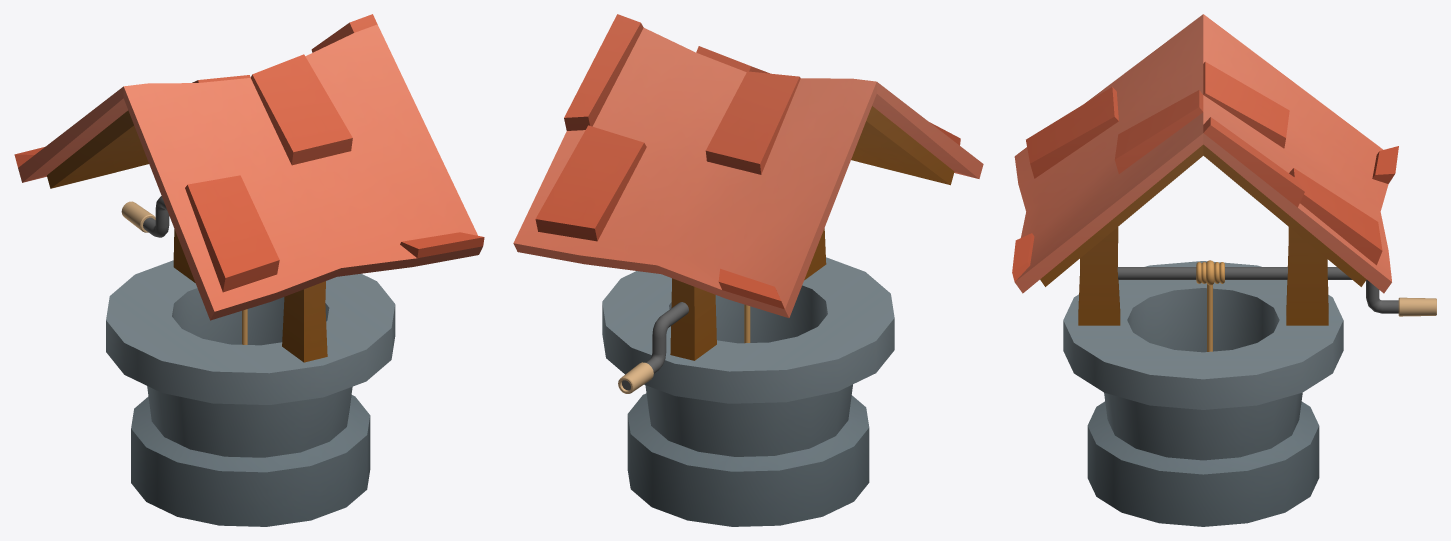
The model's file is Well.fbx.
3 renders of one model, left to right at view 1: azimuth 30°, elevation 25°; view 2: azimuth 150°, elevation 25°; view 3: azimuth 270°, elevation 25°, orthographic. The views are drawn at different scales.
Parts seen in each view (by area): view 1: Well, Well.Piece; view 2: Well, Well.Piece; view 3: Well, Well.Piece.
Part boxes in pixels (x1=…): Well: x1=14, y1=14, x2=484, y2=526; Well.Piece: x1=121, y1=196, x2=169, y2=237; Well: x1=513, y1=14, x2=983, y2=526; Well.Piece: x1=618, y1=302, x2=688, y2=393; Well: x1=1012, y1=14, x2=1398, y2=526; Well.Piece: x1=1117, y1=267, x2=1436, y2=316.
Bounding box in the file's own units: 1.42 × 2.03 × 2.17.
